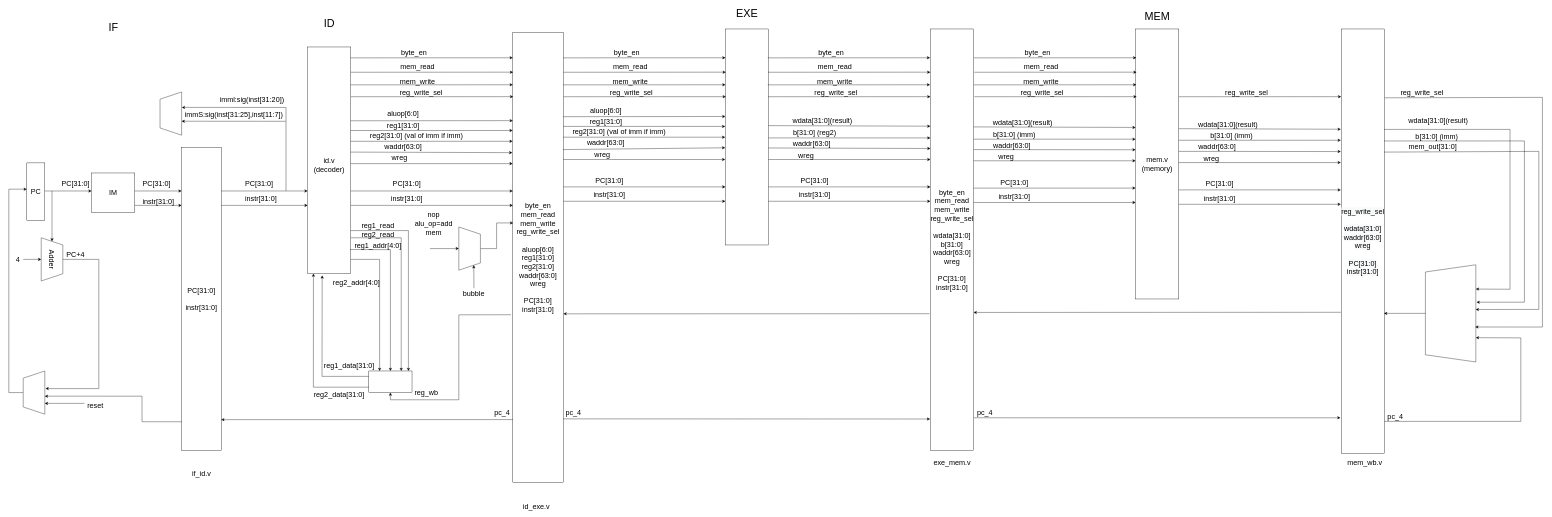
Some shapes in this 1552 by 517 pixel diagram are drawn without their labels. Here are the shapes that lost their labels. From the top down, the centre of each, then its label:
point 746,137: ex.v (alu)
point 1450,313: wb.v
point 34,392: mux
point 390,382: regfile.v
